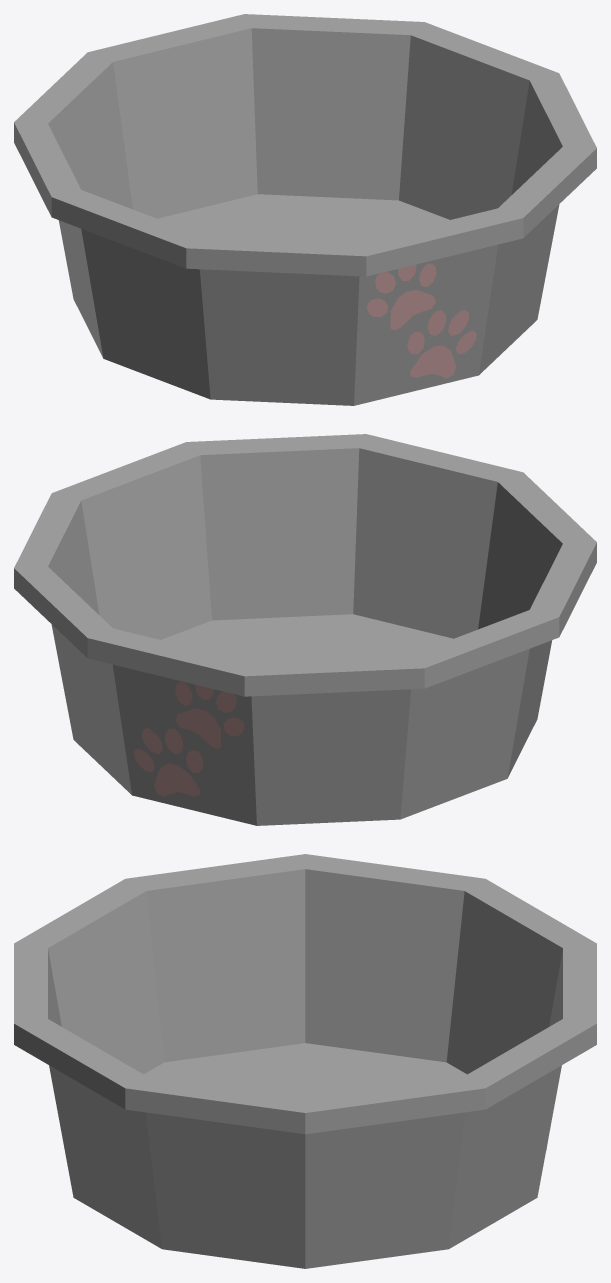
The model's file is dogbowl.fbx.
The picture shows the model from 3 angles, top to bottom: view 1: azimuth 30°, elevation 25°; view 2: azimuth 150°, elevation 25°; view 3: azimuth 270°, elevation 25°; orthographic projection. The views are drawn at different scales.
Visible parts, largest first — view 1: pCylinder1, polySurface1 (×2); view 2: pCylinder1, polySurface1 (×2); view 3: pCylinder1.
Boxes of the visible parts, <box> form: pCylinder1: <box>14,14,596,405</box>; polySurface1 (×2): <box>390,290,456,378</box>; pCylinder1: <box>14,434,596,825</box>; polySurface1 (×2): <box>154,708,221,796</box>; pCylinder1: <box>14,854,596,1268</box>.
Bounding box in the file's own units: 123 × 40.26 × 117.
